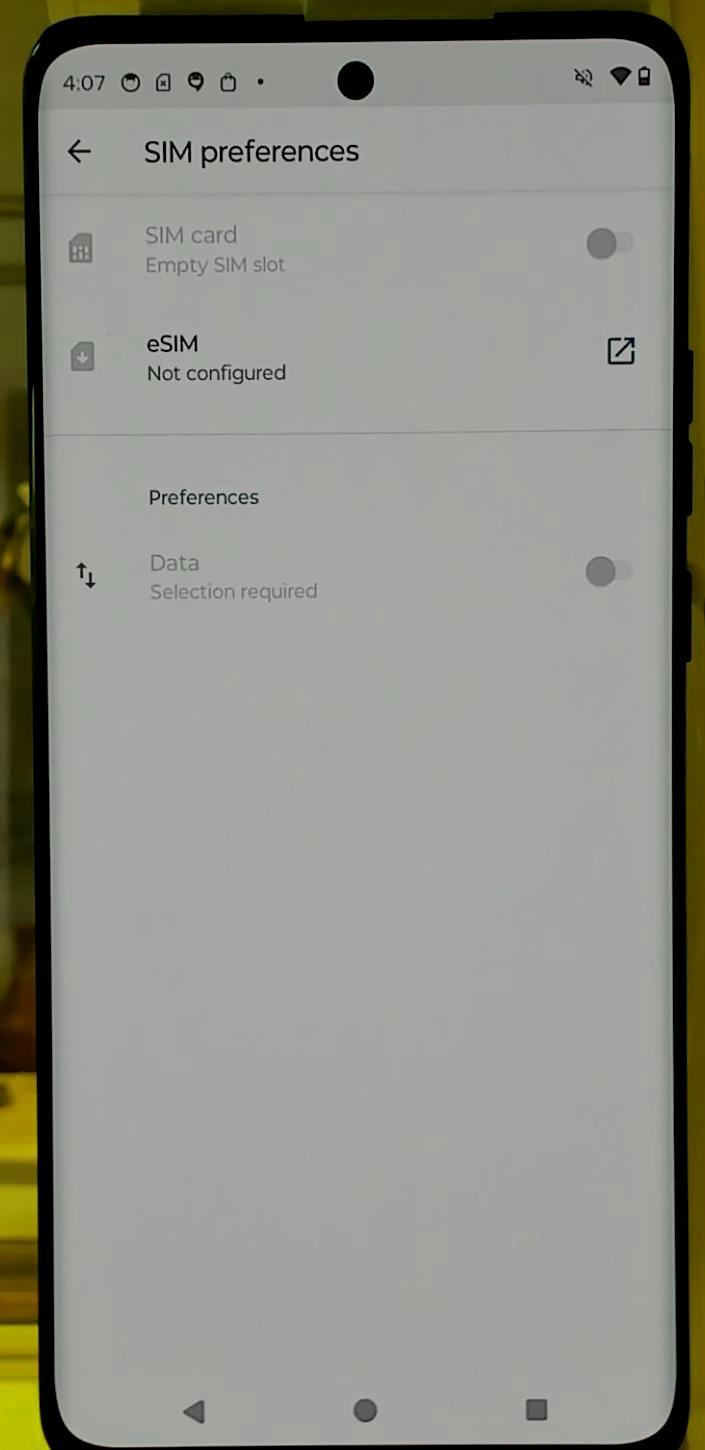RadioButton: (55, 193, 632, 292), (63, 535, 637, 621)
